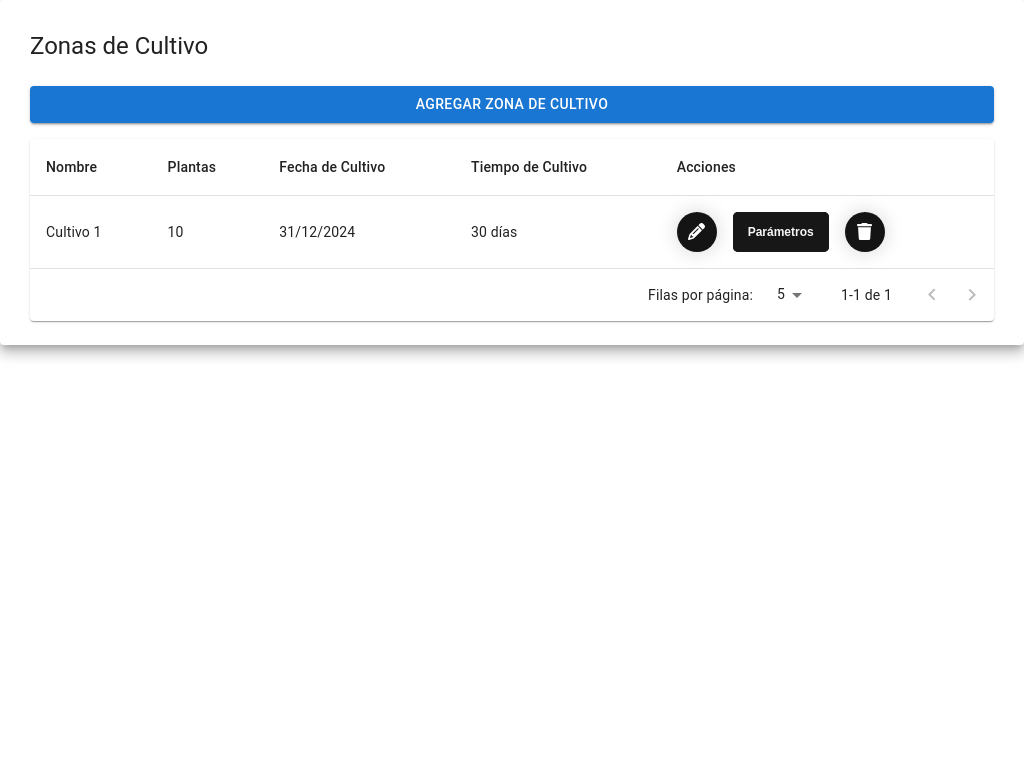
Test case: ZonaCultivo Component › permite abrir el modal de edición
Click the 2nd button at (697, 232), box left=677, top=212, right=717, bottom=252
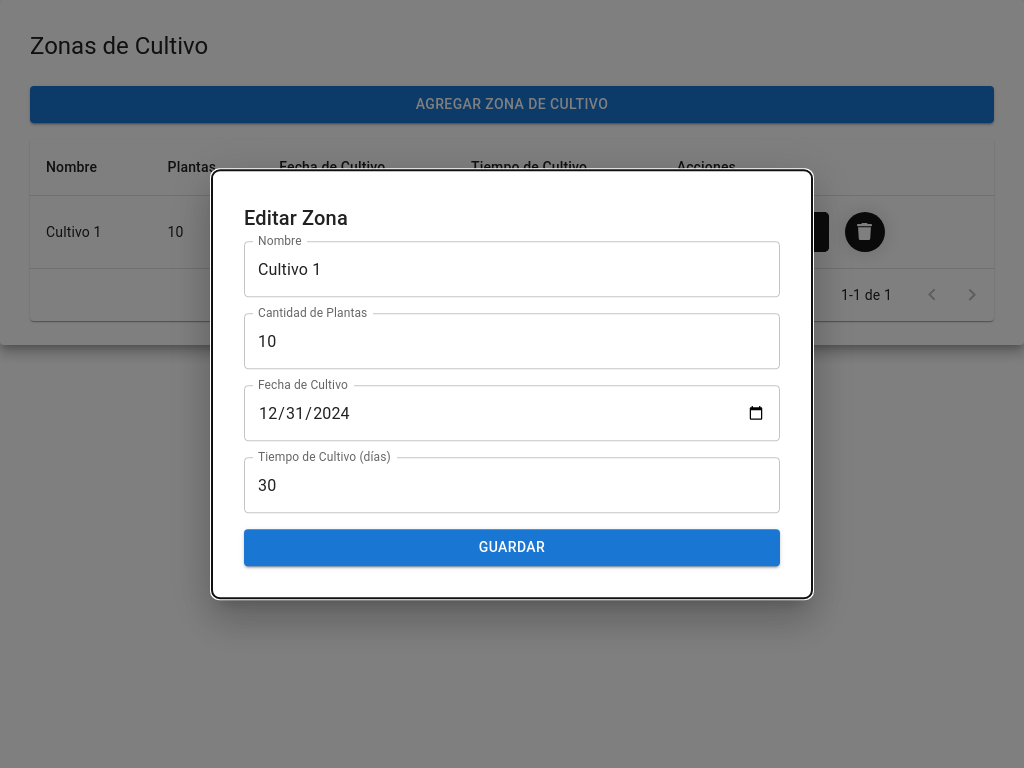
Result: the field showing "Cultivo 1" is shown at left=244, top=241, right=780, bottom=297
